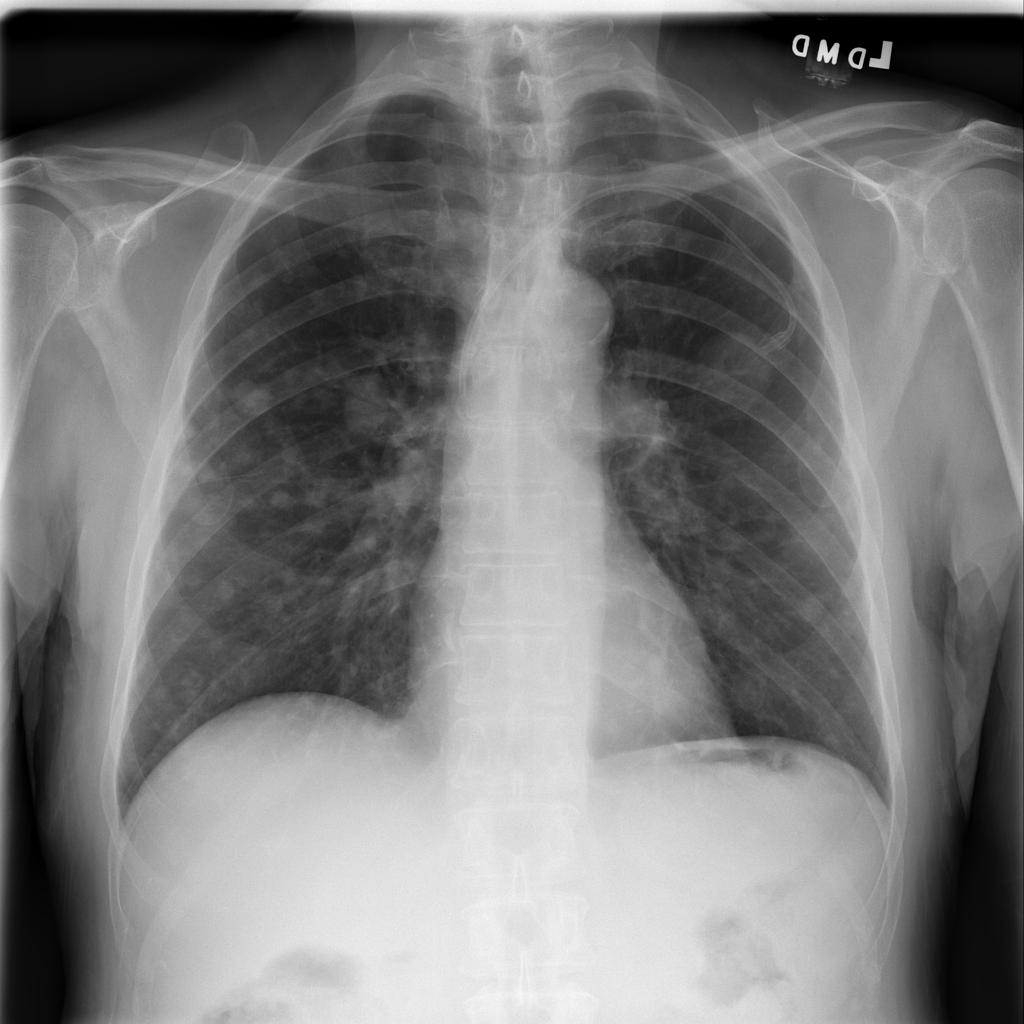nodule: (336, 364, 408, 444), (720, 657, 795, 724), (226, 368, 282, 418), (787, 582, 838, 635), (196, 565, 250, 615), (265, 487, 295, 519)
